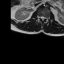CCS_normal: (42, 15, 43, 22)
LFS_normal: (45, 15, 46, 21)
LLS_normal: (43, 15, 45, 21)
RFS_normal: (39, 14, 40, 20)
RLS_normal: (40, 14, 42, 20)
